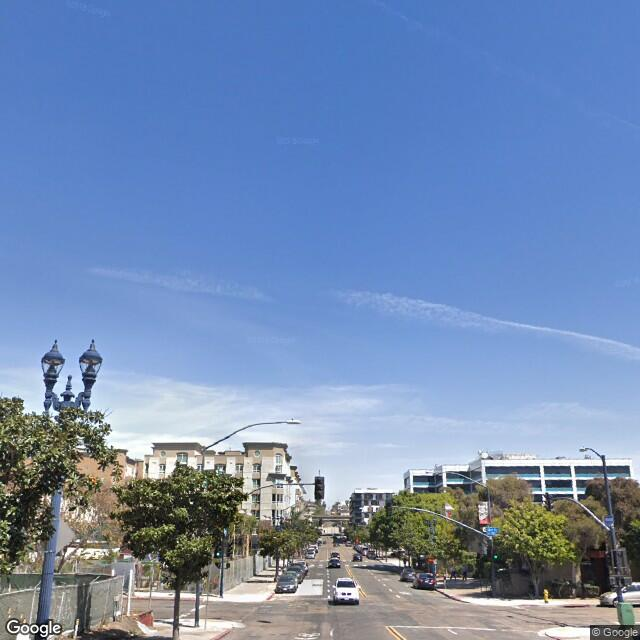light: (77, 341, 106, 386), (37, 346, 65, 392)
